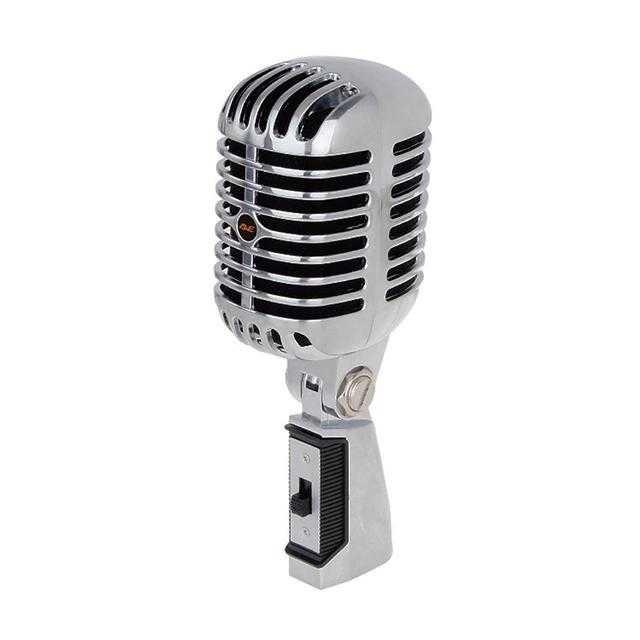microphone: (158, 55, 600, 598)
